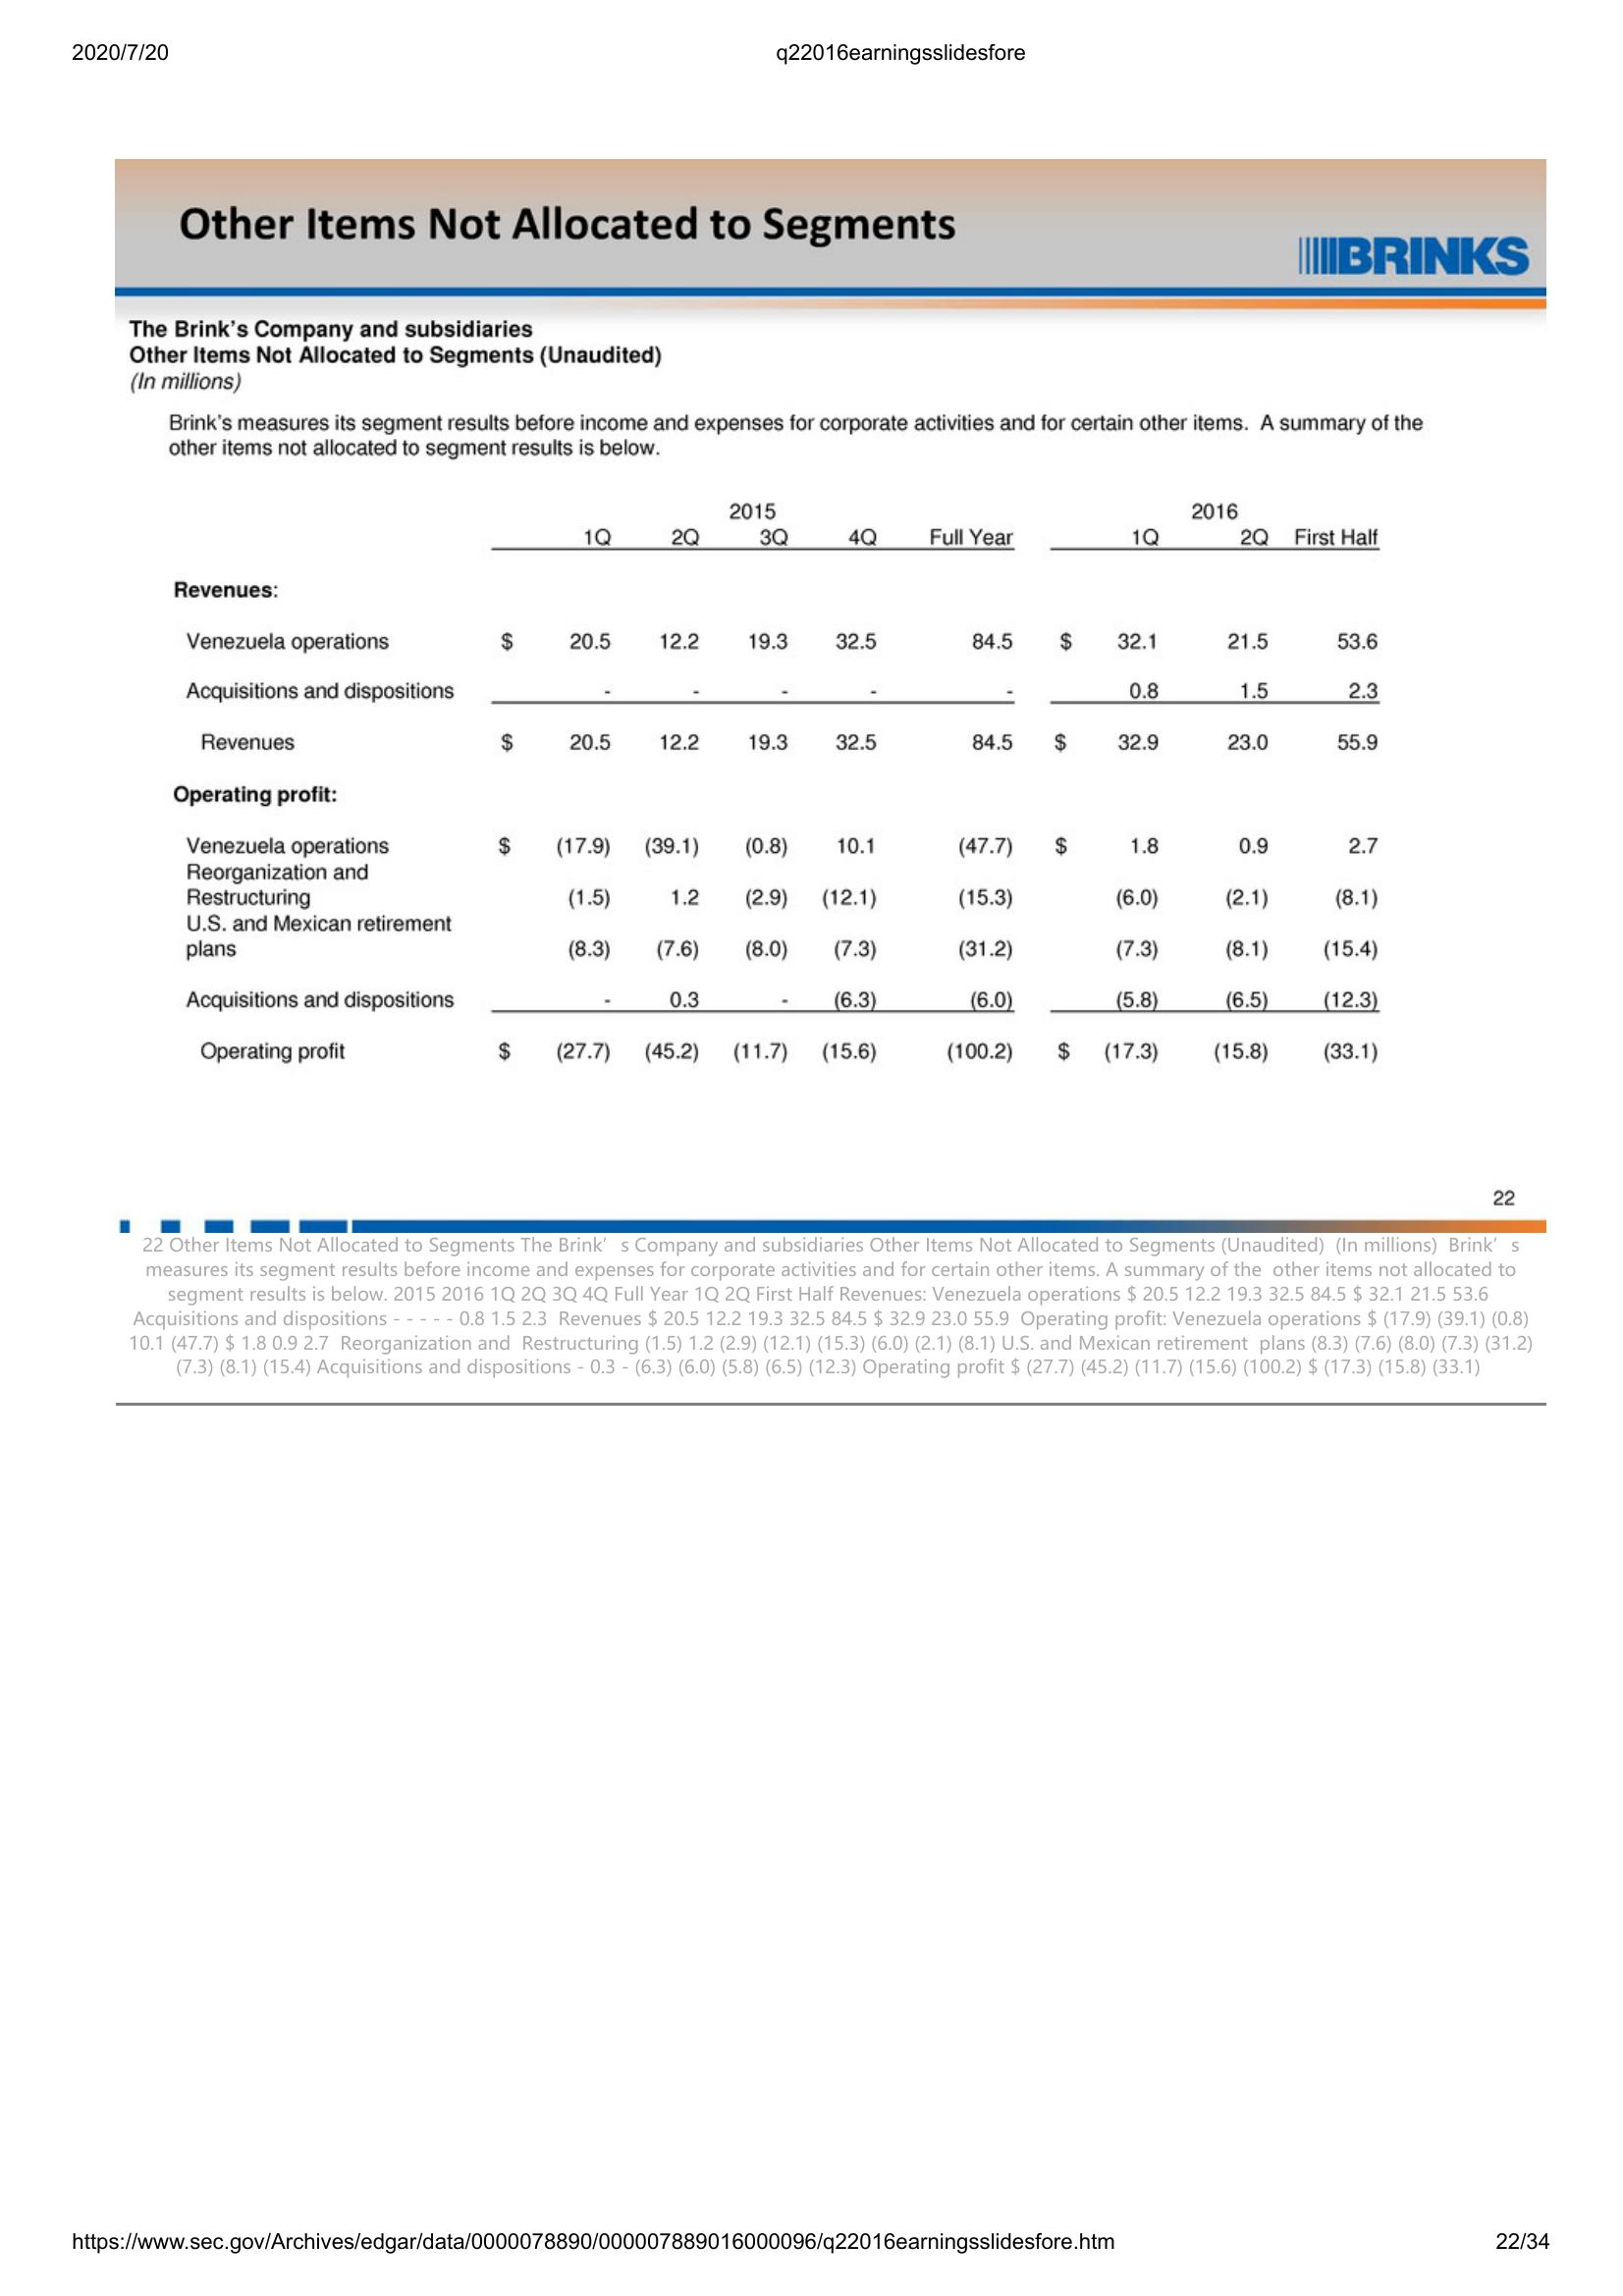table: (169, 497, 1400, 1078)
